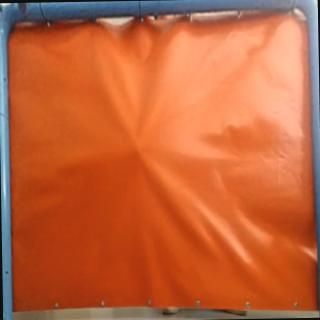Hit-hRxx: (132, 143, 144, 156)
